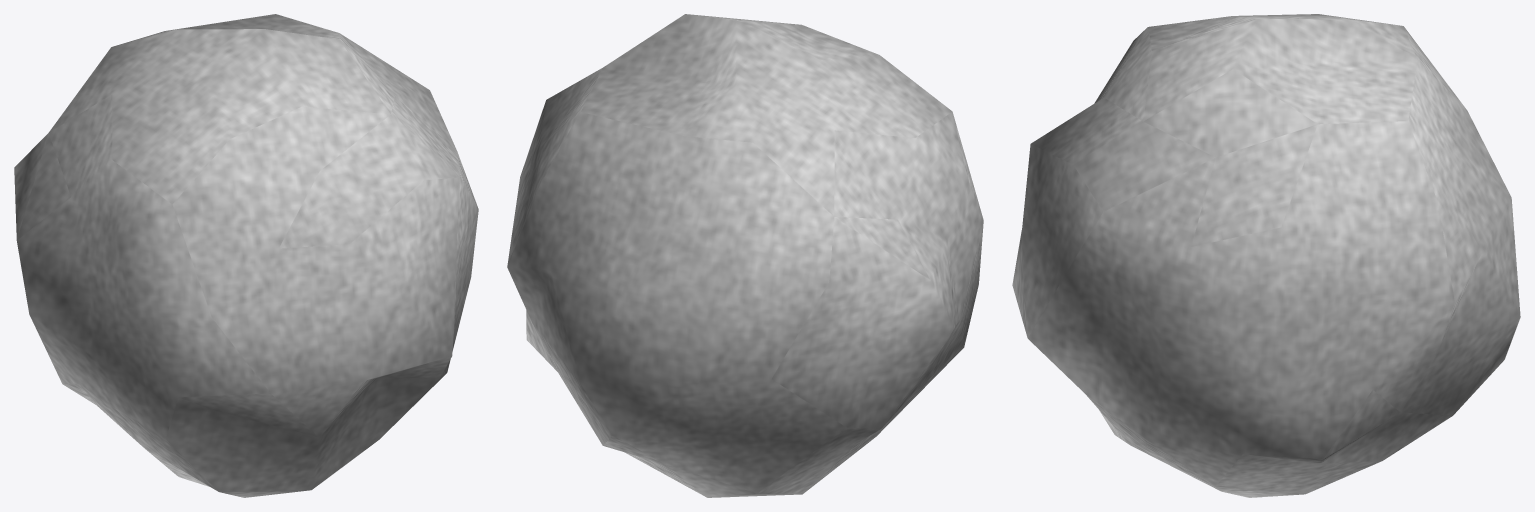
The model's file is LargeAsteroid.fbx.
3 renders of one model, left to right at view 1: azimuth 30°, elevation 25°; view 2: azimuth 150°, elevation 25°; view 3: azimuth 270°, elevation 25°, orthographic. The views are drawn at different scales.
Parts seen in each view (by area): view 1: F3:GeoDome1; view 2: F3:GeoDome1; view 3: F3:GeoDome1.
Part boxes in pixels (x1=…): F3:GeoDome1: x1=14, y1=14, x2=478, y2=497; F3:GeoDome1: x1=507, y1=14, x2=983, y2=497; F3:GeoDome1: x1=1012, y1=14, x2=1520, y2=497.
Bounding box in the file's own units: 1.13 × 1.19 × 1.14.
1 material, 1 textured.
